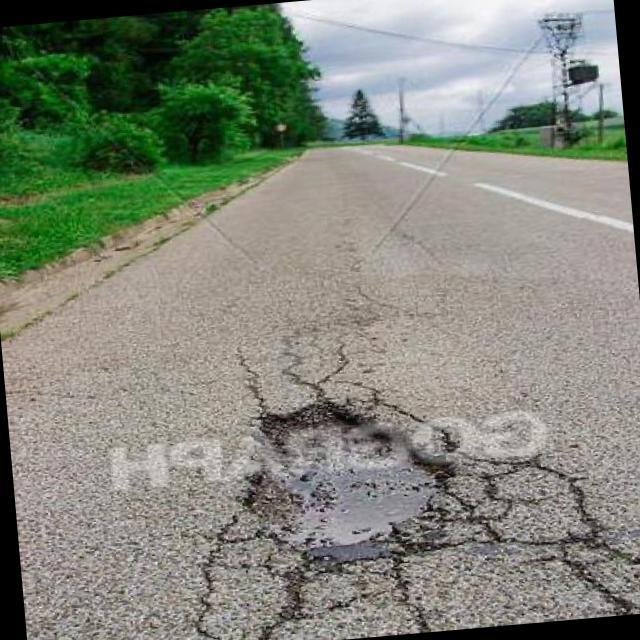Pothole: (262, 401, 434, 547)
